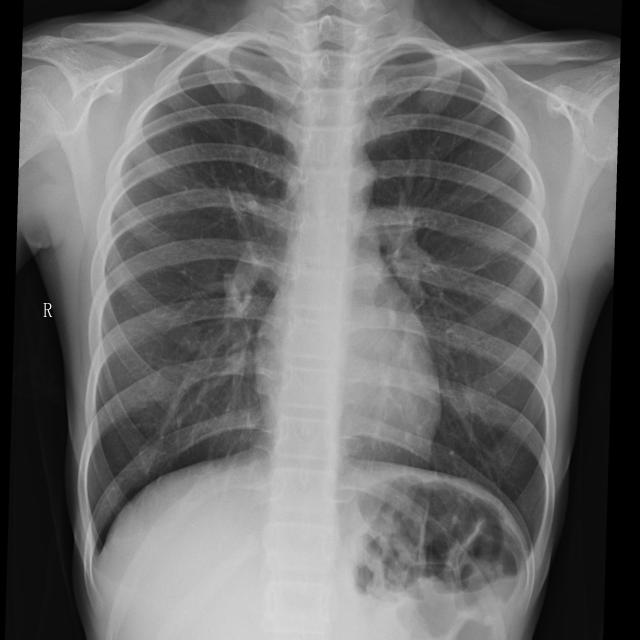no-pneumonia: (88, 58, 296, 546), (365, 53, 551, 537)
